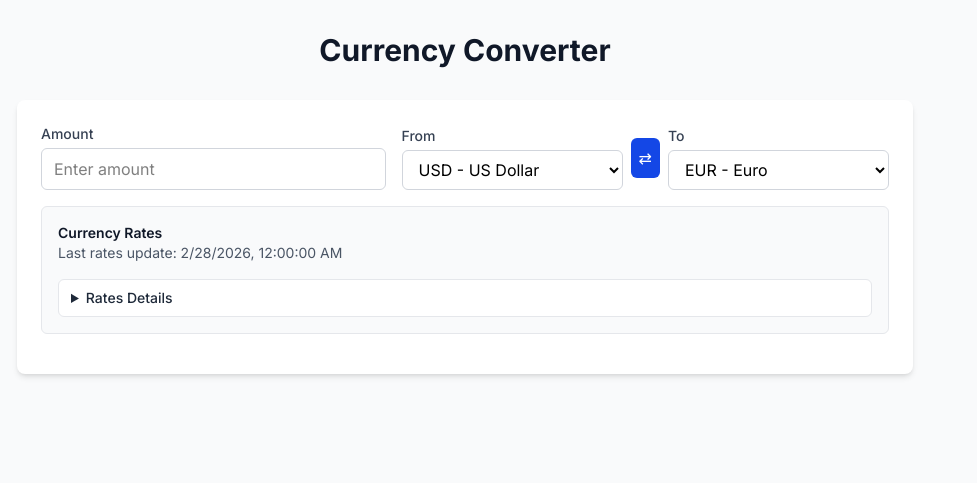
Test: CurrencyConverter currency selection behavior › updates rates on refresh and does not write conversion history again
Type "10" into the number field labelled "Amount" at (213, 169), box [41,148,386,190]
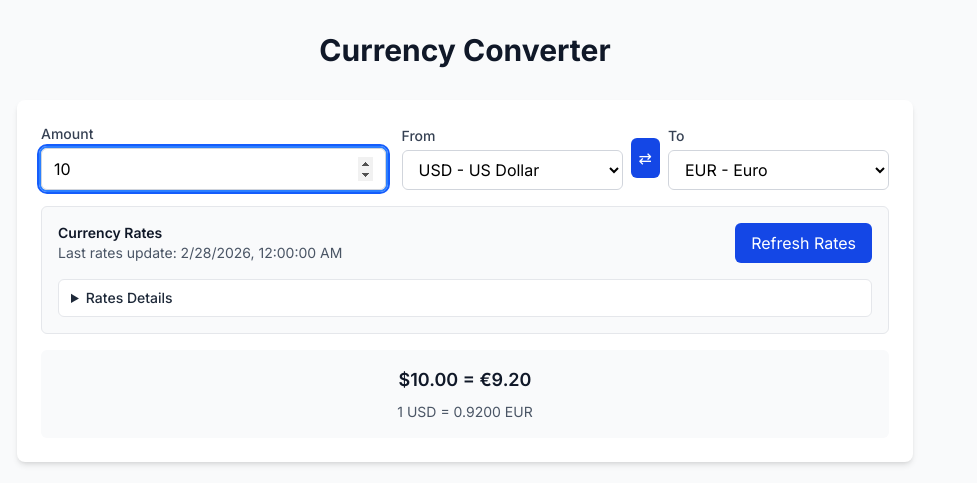
Check: the text "1 USD = 0.9200 EUR" is shown, box [397,403,533,420]
Click the button "Refresh Rates" at (804, 243), box [735,223,872,263]
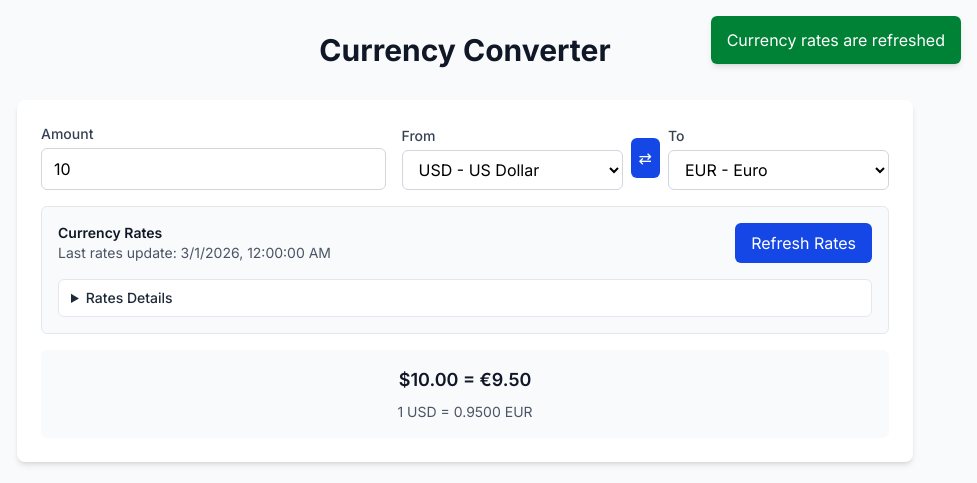
Check: the text "Currency rates are refreshed" is shown, box [711,16,961,64]
Check: the text "1 USD = 0.9500 EUR" is shown, box [397,403,533,420]
